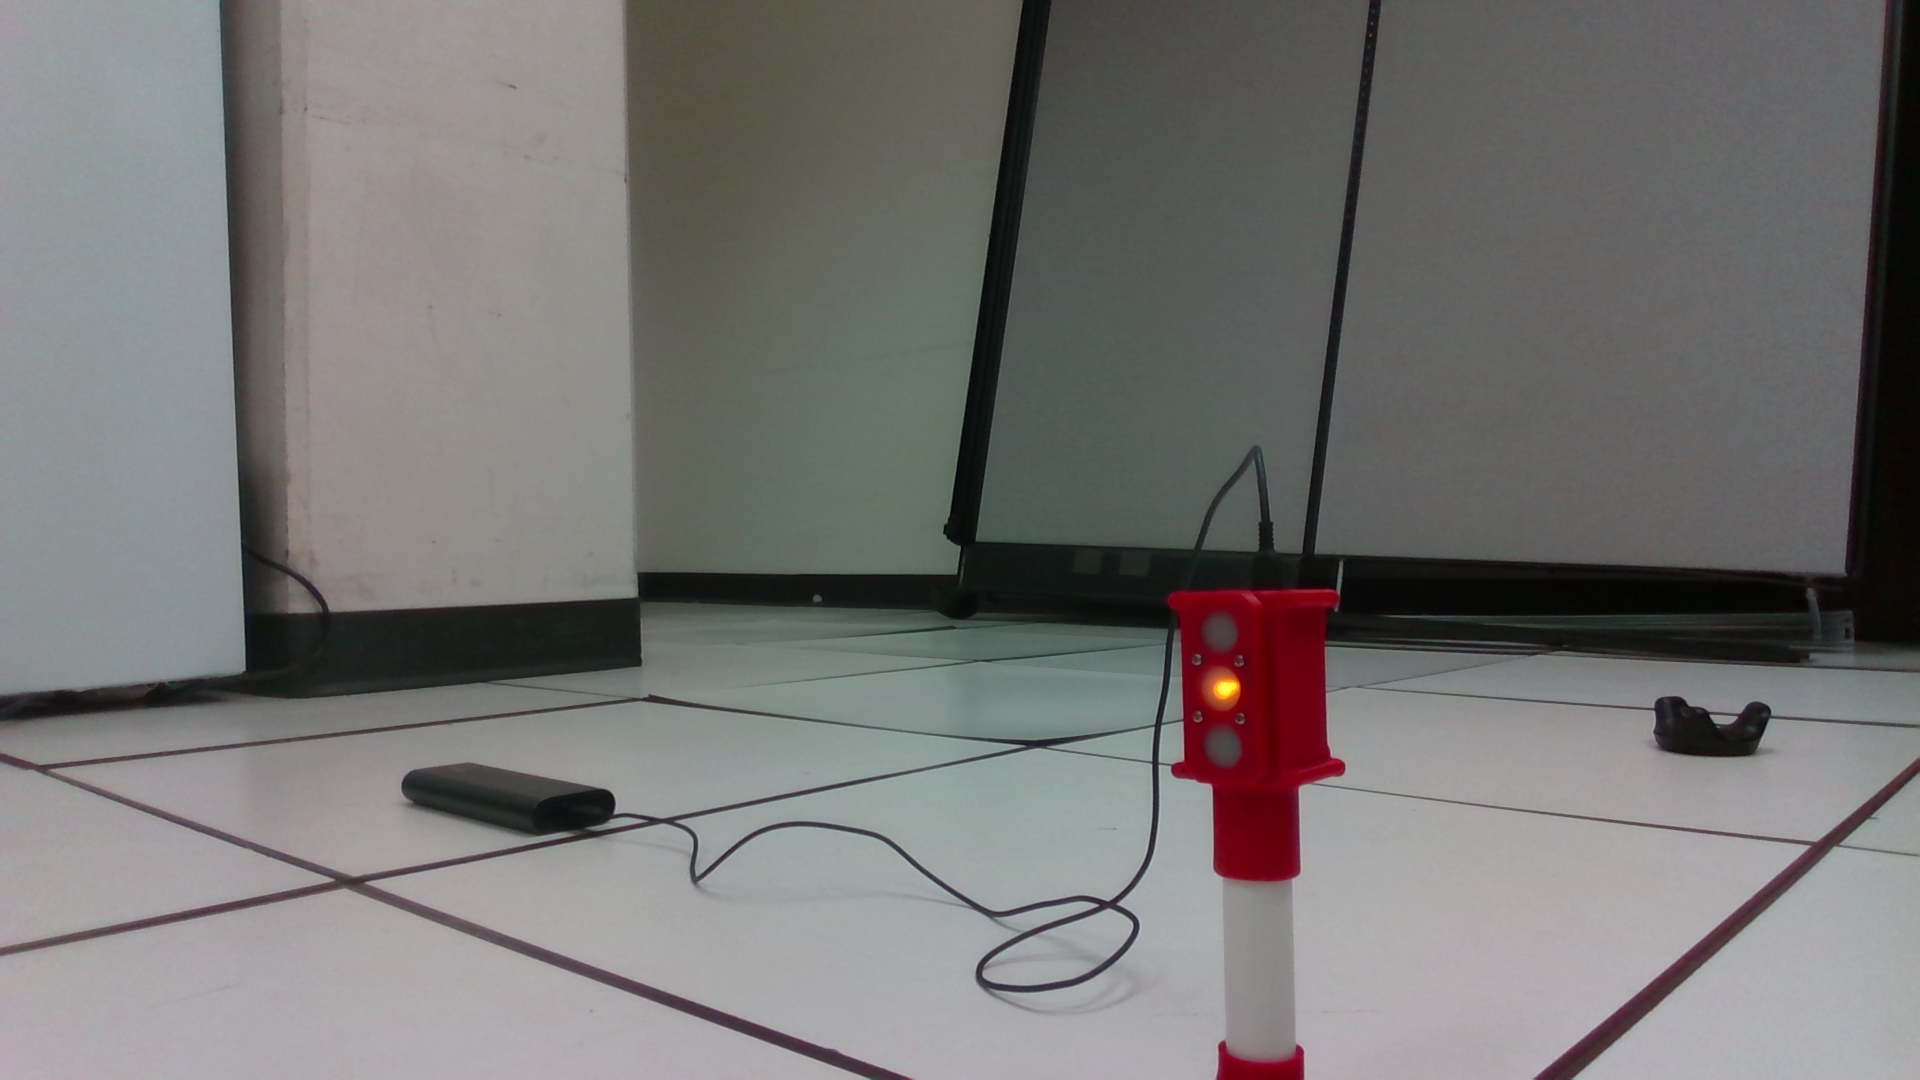stoplight: (1162, 587, 1349, 880)
